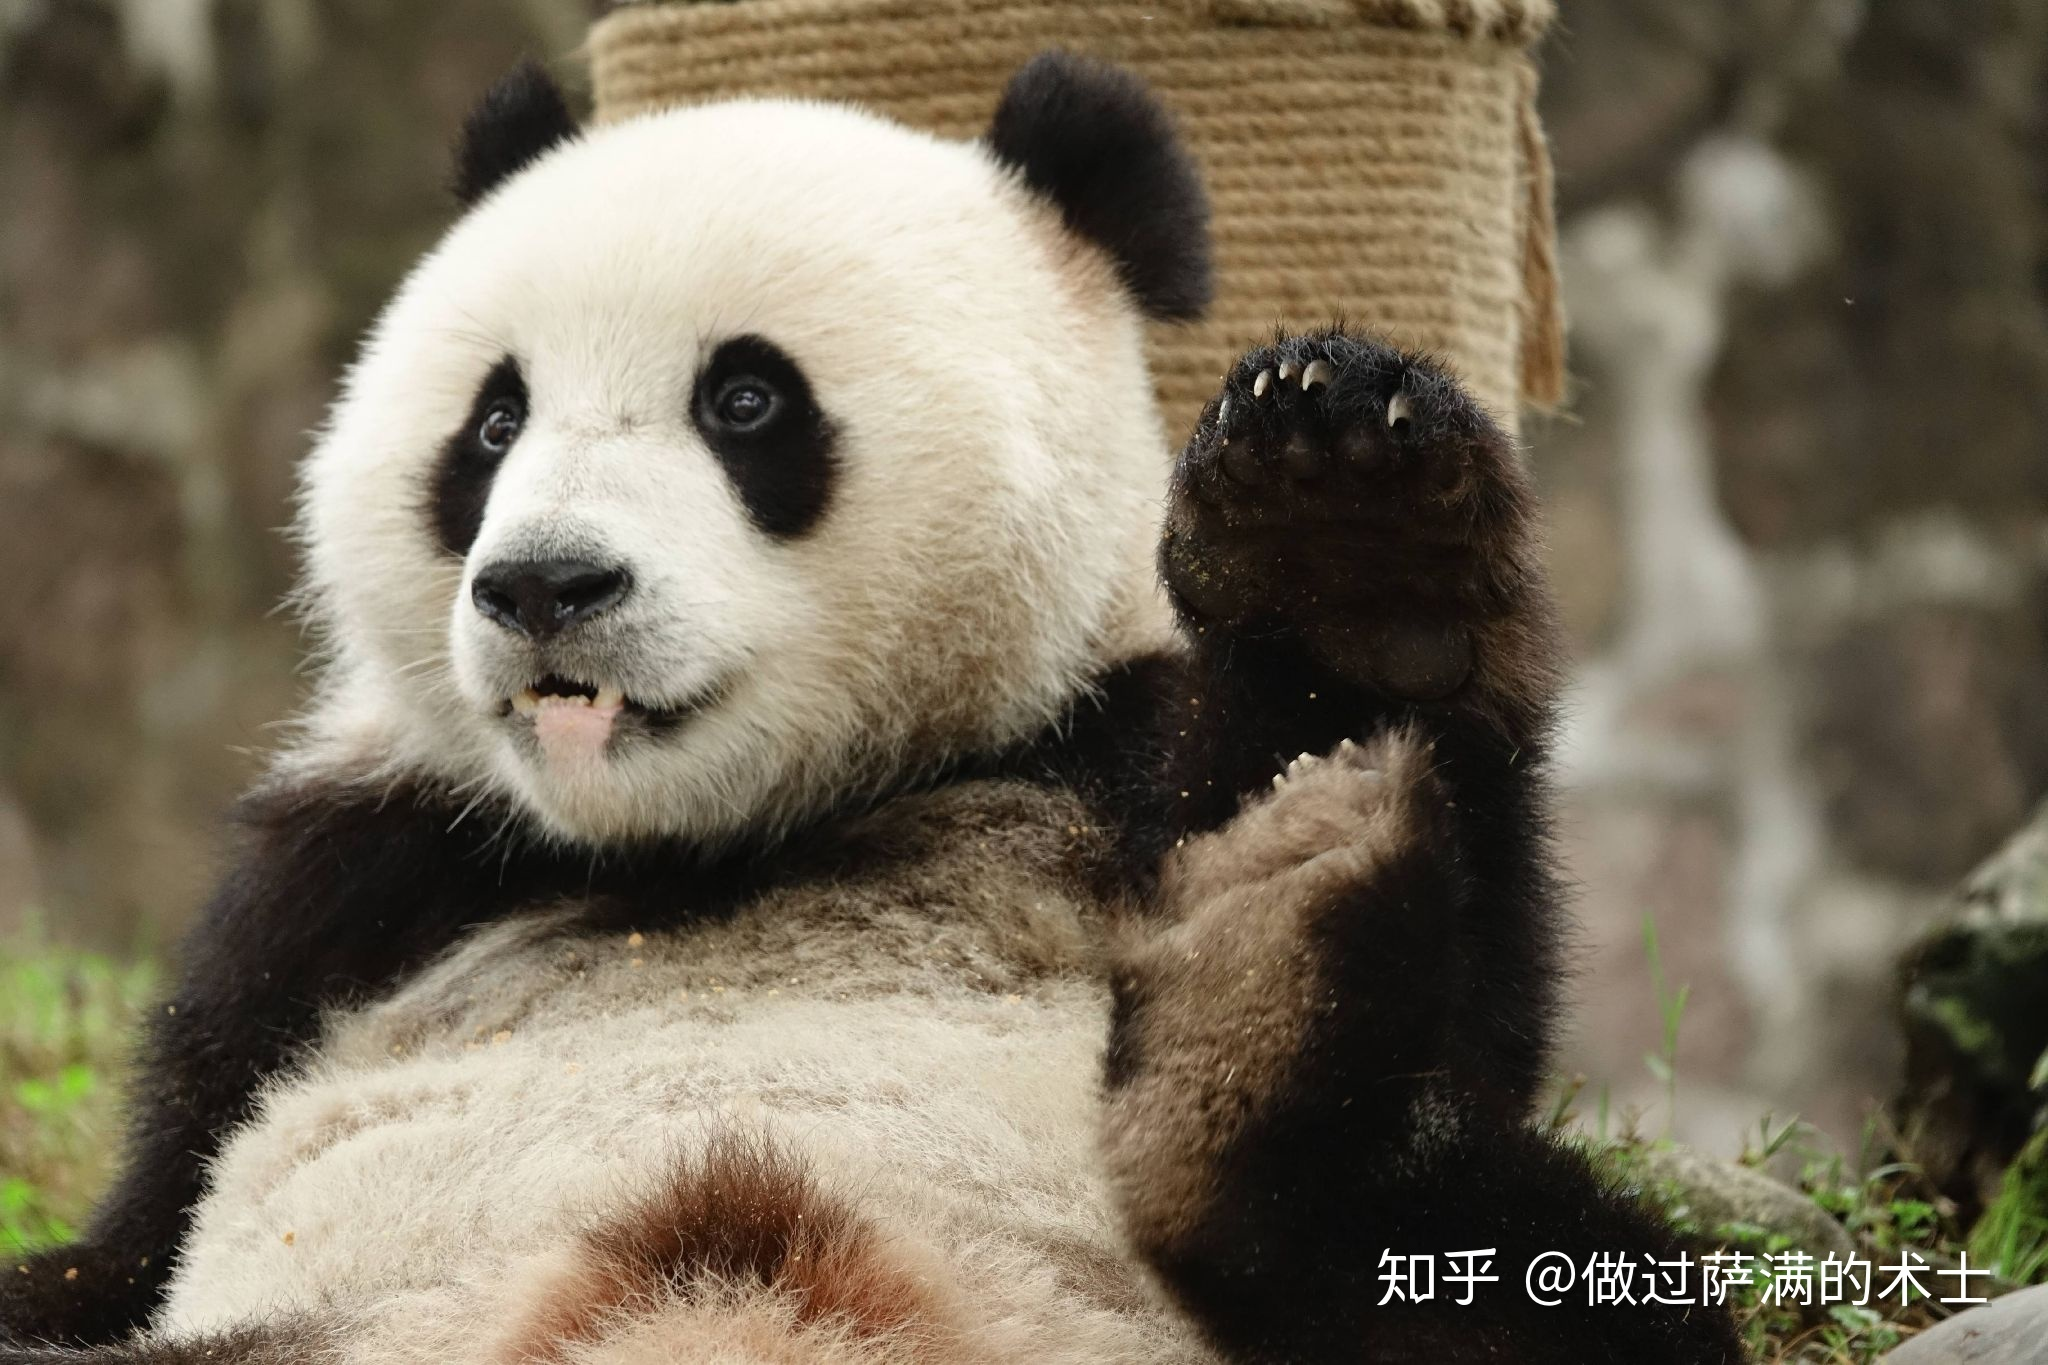panda: (72, 27, 1480, 1344)
